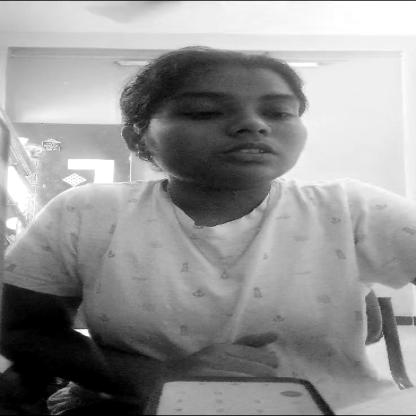Distracted: (124, 47, 312, 179)
